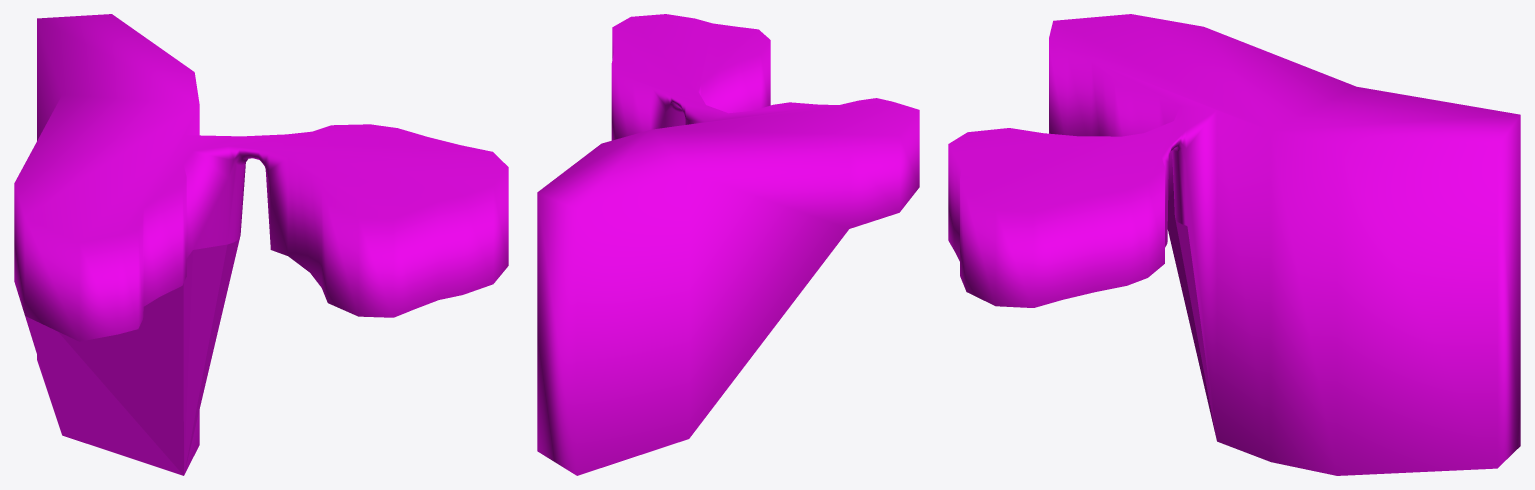
The model's file is lighthouse island colission.fbx.
3 renders of one model, left to right at view 1: azimuth 30°, elevation 25°; view 2: azimuth 150°, elevation 25°; view 3: azimuth 270°, elevation 25°, orthographic. The views are drawn at different scales.
Parts seen in each view (by area): view 1: PolyShape_1_; view 2: PolyShape_1_; view 3: PolyShape_1_.
Part boxes in pixels (x1,y1,x2,y2): PolyShape_1_: (14,14,508,475); PolyShape_1_: (537,14,919,475); PolyShape_1_: (948,14,1520,475).
Bounding box in the file's own units: 0.7284 × 0.568 × 0.8899.
